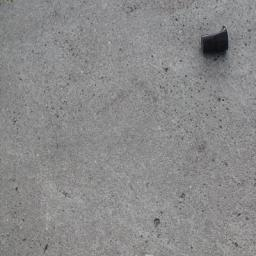FOD: (198, 25, 233, 60)
